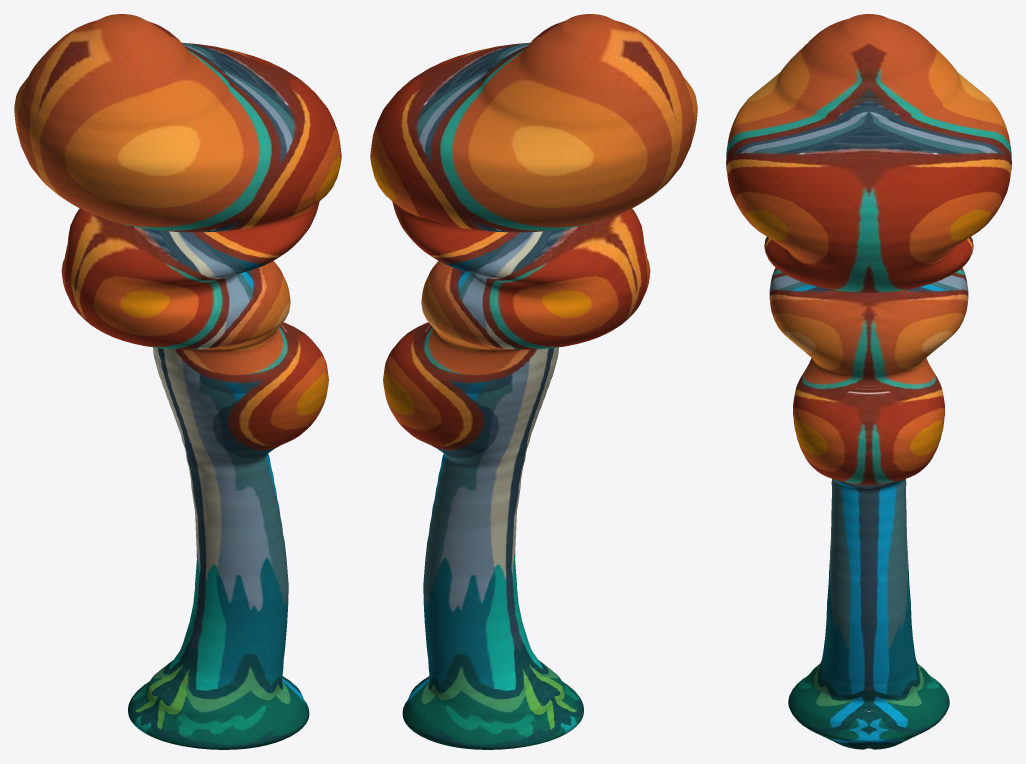
Rendered from disc_tree.glb.
The picture shows the model from 3 angles, left to right: view 1: azimuth 30°, elevation 25°; view 2: azimuth 150°, elevation 25°; view 3: azimuth 270°, elevation 25°; orthographic projection. The views are drawn at different scales.
Visible parts, largest first — view 1: disc_tree; view 2: disc_tree; view 3: disc_tree.
Boxes of the visible parts, x1=… form: disc_tree: x1=14, y1=14, x2=341, y2=749; disc_tree: x1=370, y1=14, x2=697, y2=749; disc_tree: x1=726, y1=14, x2=1011, y2=749.
Size of the model in its own units: 0.9341 by 2.27 by 0.8995.
Materials: 1 (1 with a texture image).
